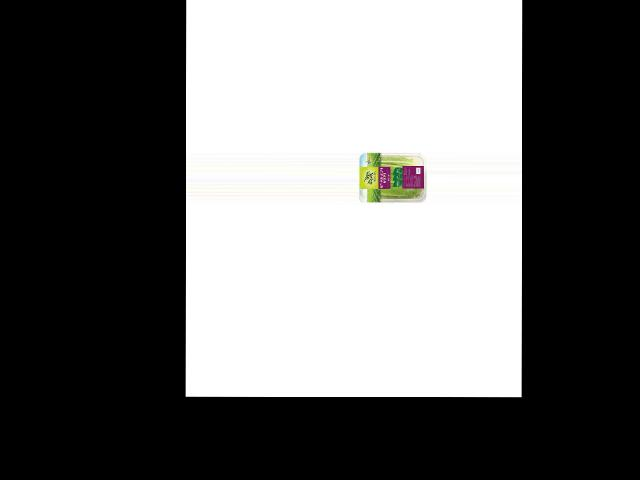lettuce: (364, 151, 427, 202)
